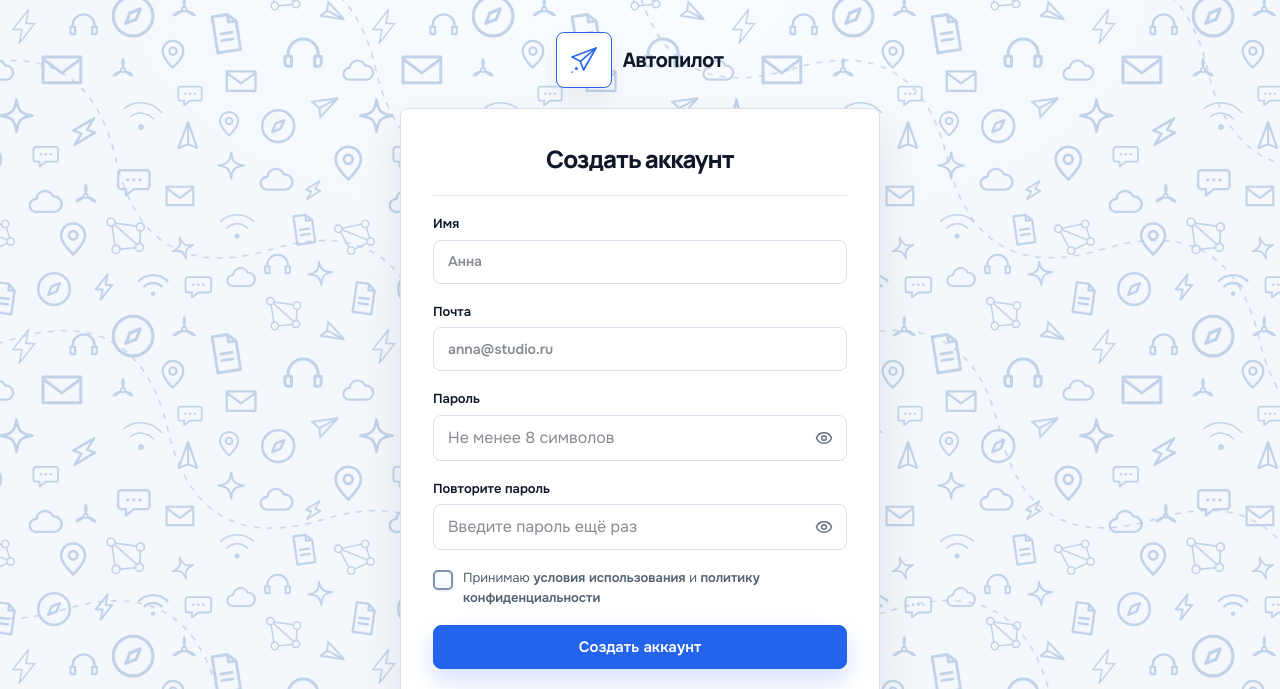
Scenario: RegisterPage › shows the localized duplicate email error returned by the API
Type "Тимур" into the field labelled "Имя".
click(640, 262); type("Тимур")  # box top-left (433, 240), bottom-right (847, 284)
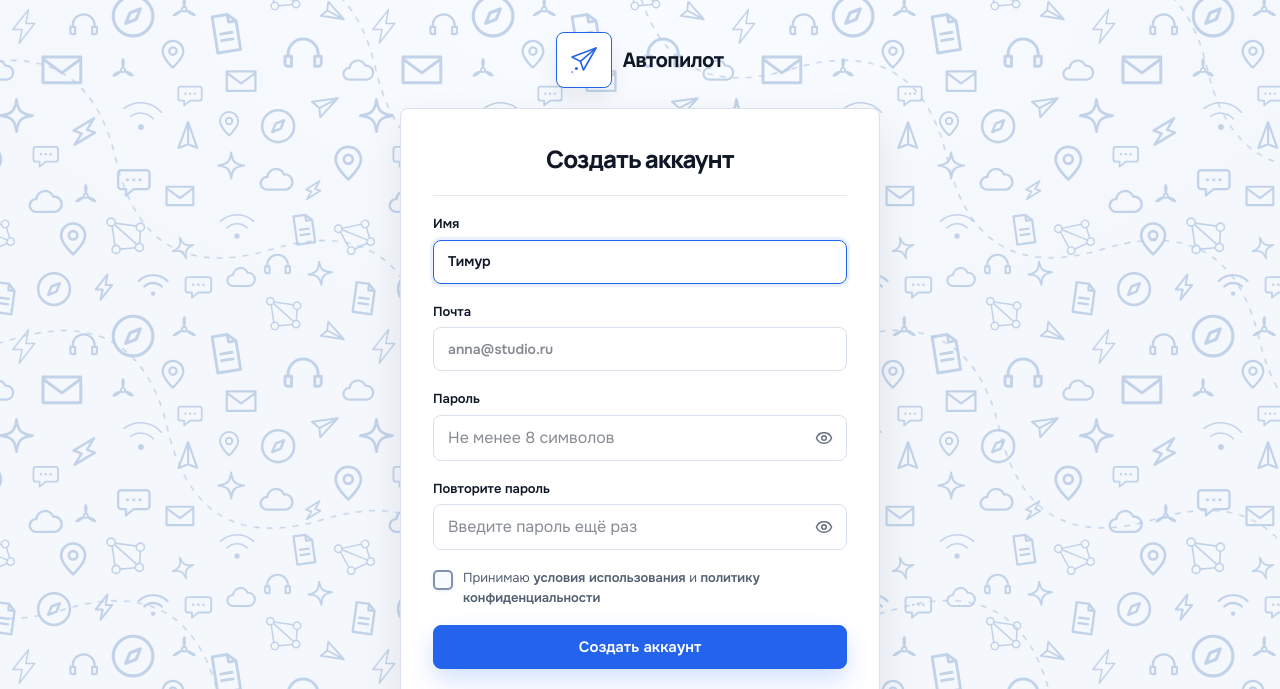
Type "timur@example.com" into the field labelled "Почта".
click(640, 349); type("timur@example.com")  # box top-left (433, 327), bottom-right (847, 371)
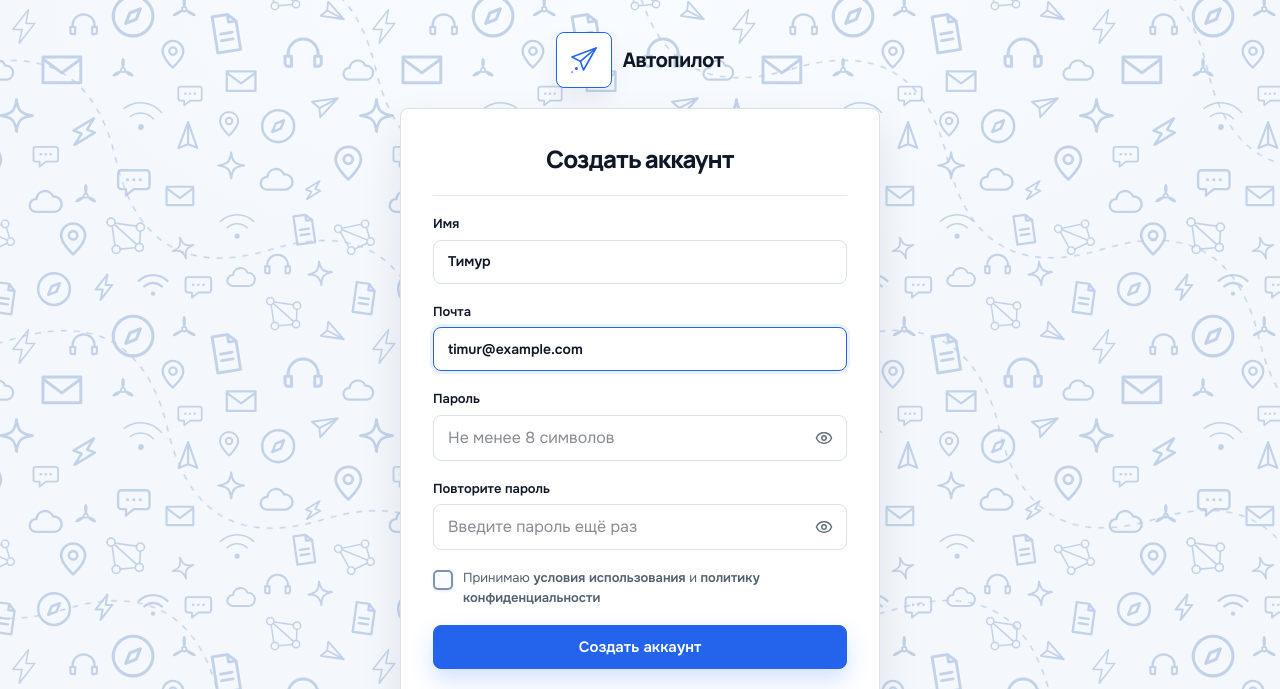
Type "strong-password" into the password field with placeholder "Не менее 8 символов".
click(620, 438); type("strong-password")  # box top-left (434, 416), bottom-right (806, 460)
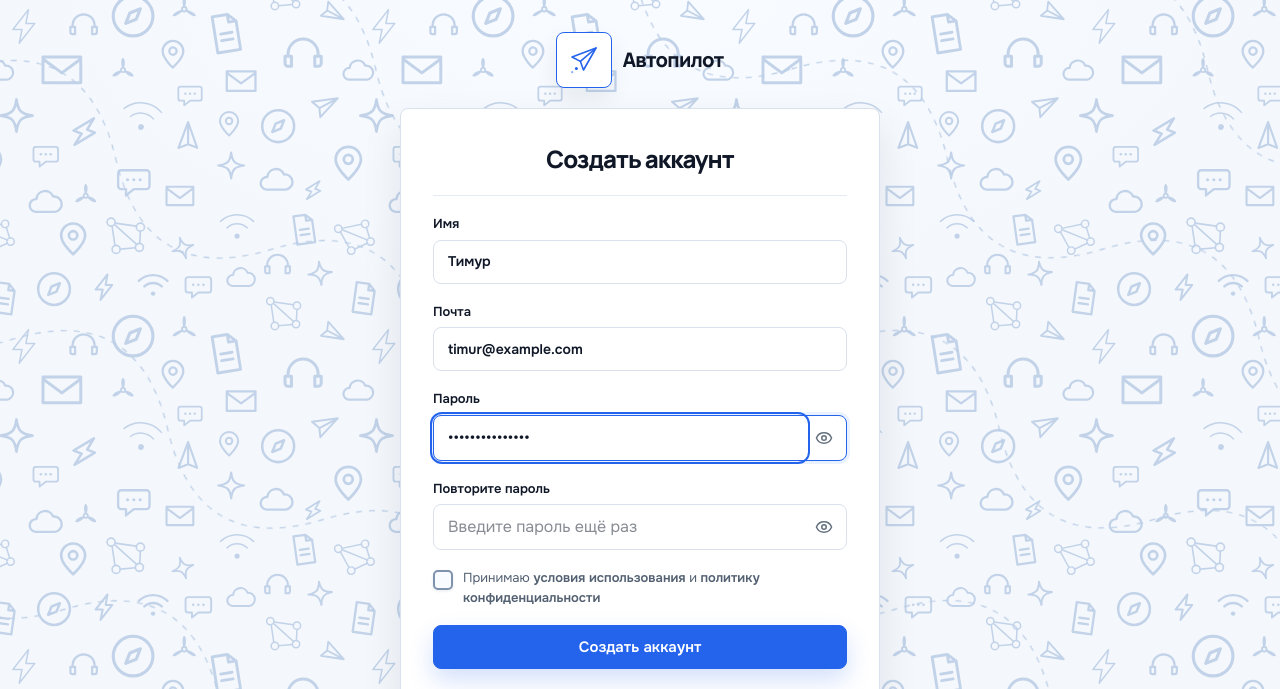
Type "strong-password" into the password field labelled "Повторите пароль".
click(620, 527); type("strong-password")  # box top-left (434, 505), bottom-right (806, 549)
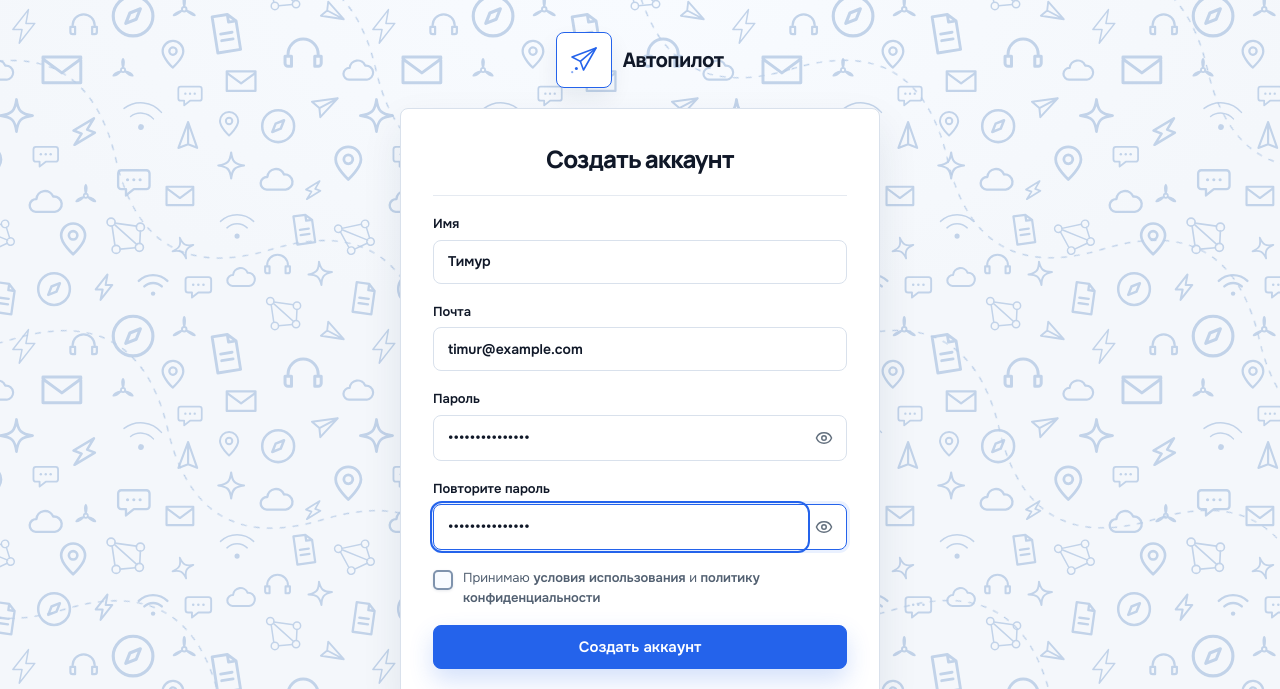
Click the checkbox.
click(443, 580)  # box top-left (433, 570), bottom-right (453, 590)
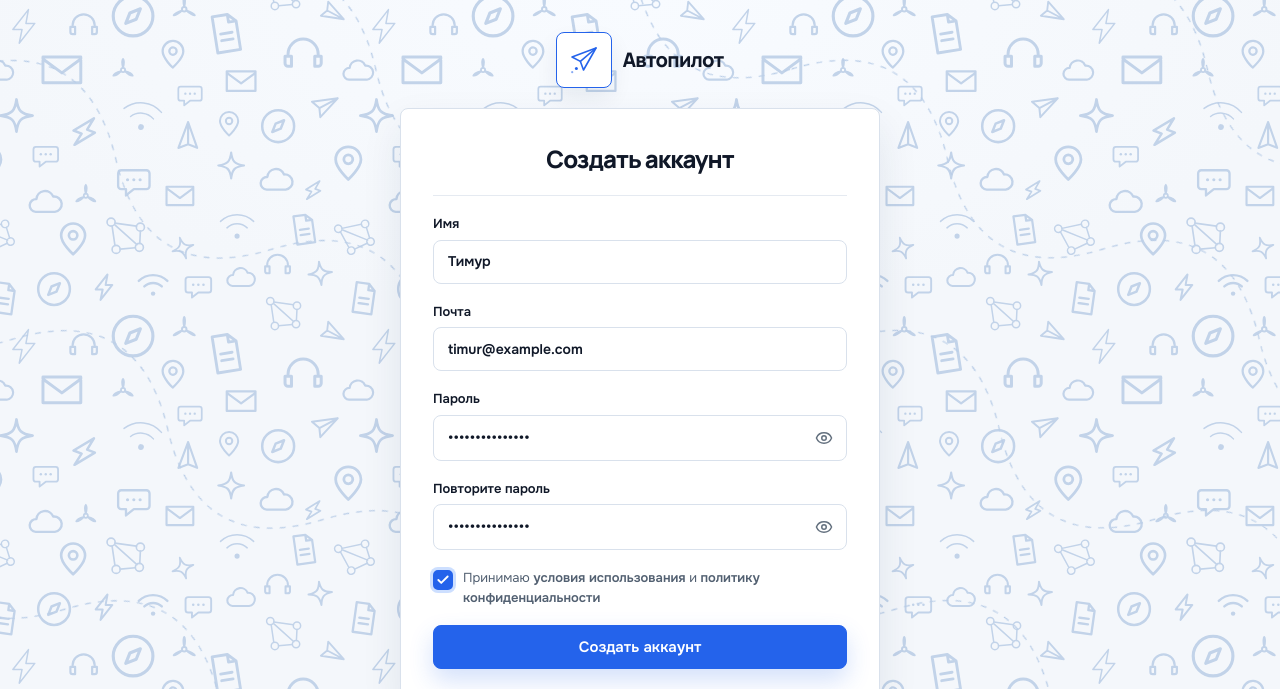
Click the button "Создать аккаунт".
click(640, 647)  # box top-left (433, 625), bottom-right (847, 669)
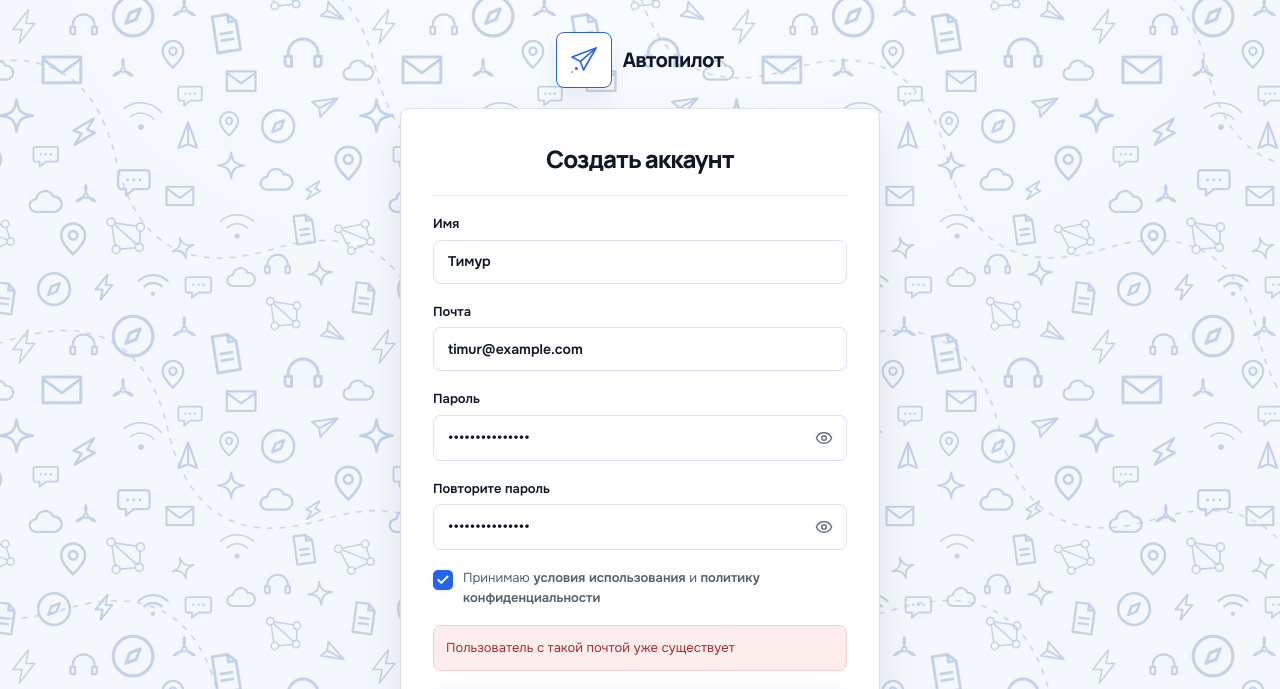
Expected: the message reads "Пользователь с такой почтой уже существует", top-left (446, 639), bottom-right (735, 656)
